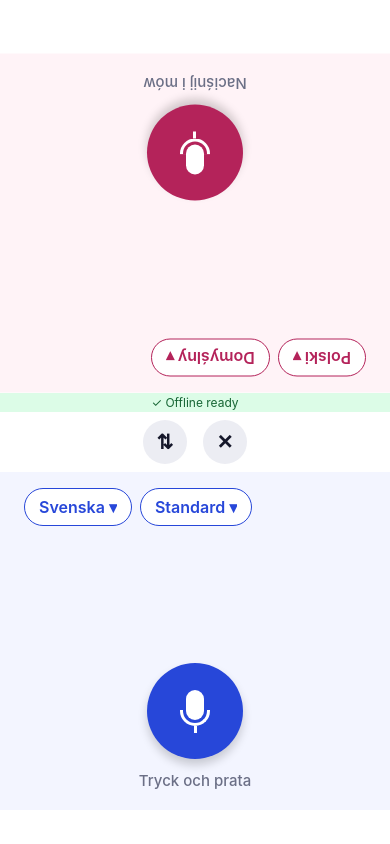
it: FaceToFaceScreen › picking a language from the dropdown sets it and remembers it
Expected: the element with test id "lang-bottom" shows "Svenska", x1=39 y1=496 x2=105 y2=516
Click the element with test id "lang-top" at (322, 358), box x1=278 y1=338 x2=366 y2=376
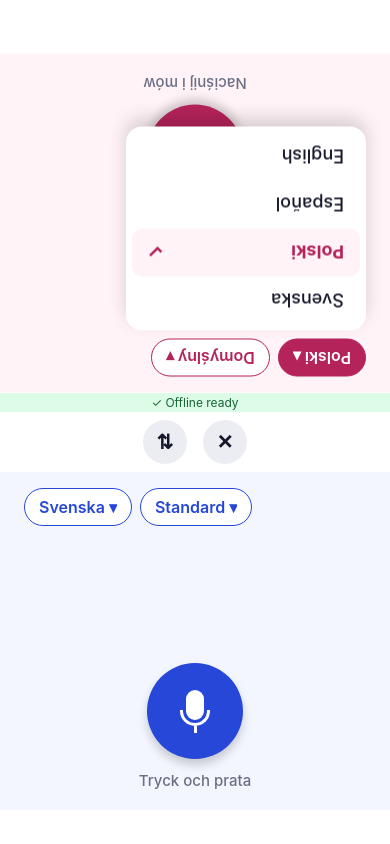
Click the menu item with test id "lang-option-top-es" at (310, 204), box x1=276 y1=194 x2=344 y2=215
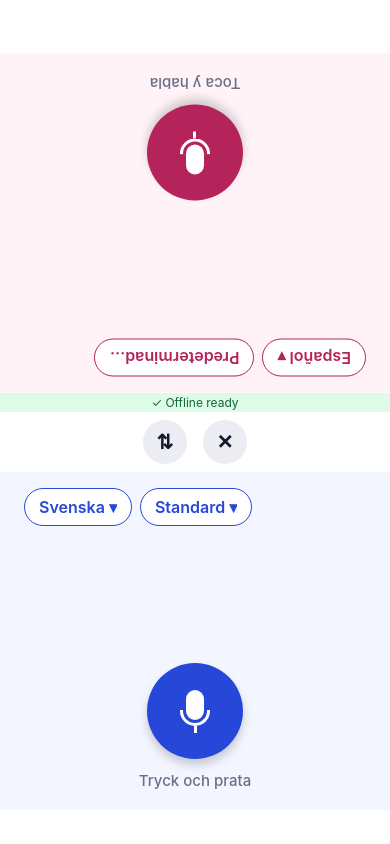
Expected: the element with test id "lang-top" shows "Español", x1=290 y1=348 x2=351 y2=368
Expected: the menu item with test id "lang-option-top-es" is gone
